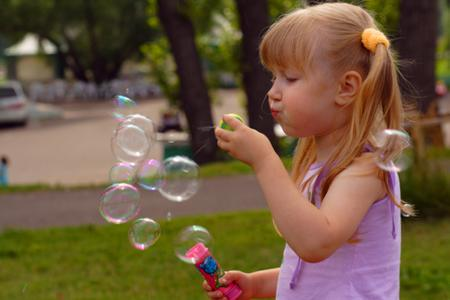person: (197, 4, 410, 300)
